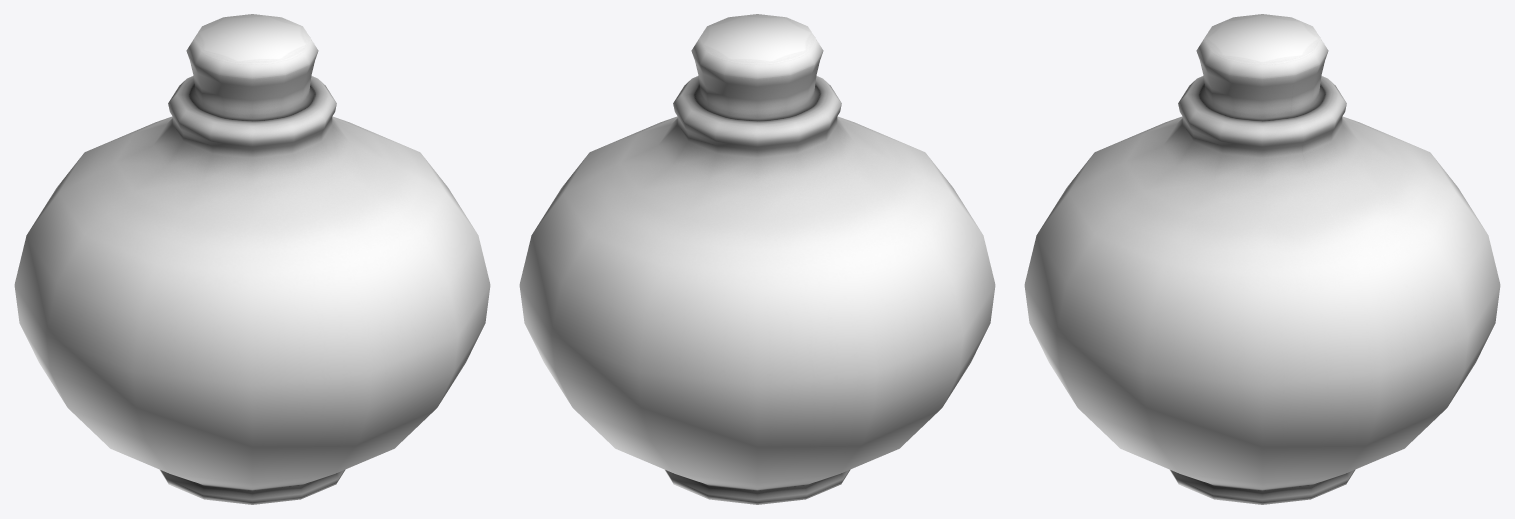
Rendered from 140_an_urn.fbx.
3 renders of one model, left to right at view 1: azimuth 30°, elevation 25°; view 2: azimuth 150°, elevation 25°; view 3: azimuth 270°, elevation 25°, orthographic.
Visible parts, largest first — view 1: 140_an_urn_01_low; view 2: 140_an_urn_01_low; view 3: 140_an_urn_01_low.
Part boxes in pixels (left/top/right/bottom): 140_an_urn_01_low: left=14, top=14, right=490, bottom=504; 140_an_urn_01_low: left=519, top=14, right=995, bottom=504; 140_an_urn_01_low: left=1024, top=14, right=1500, bottom=504.
Size of the model in its own units: 22.13 by 21.82 by 22.13.
